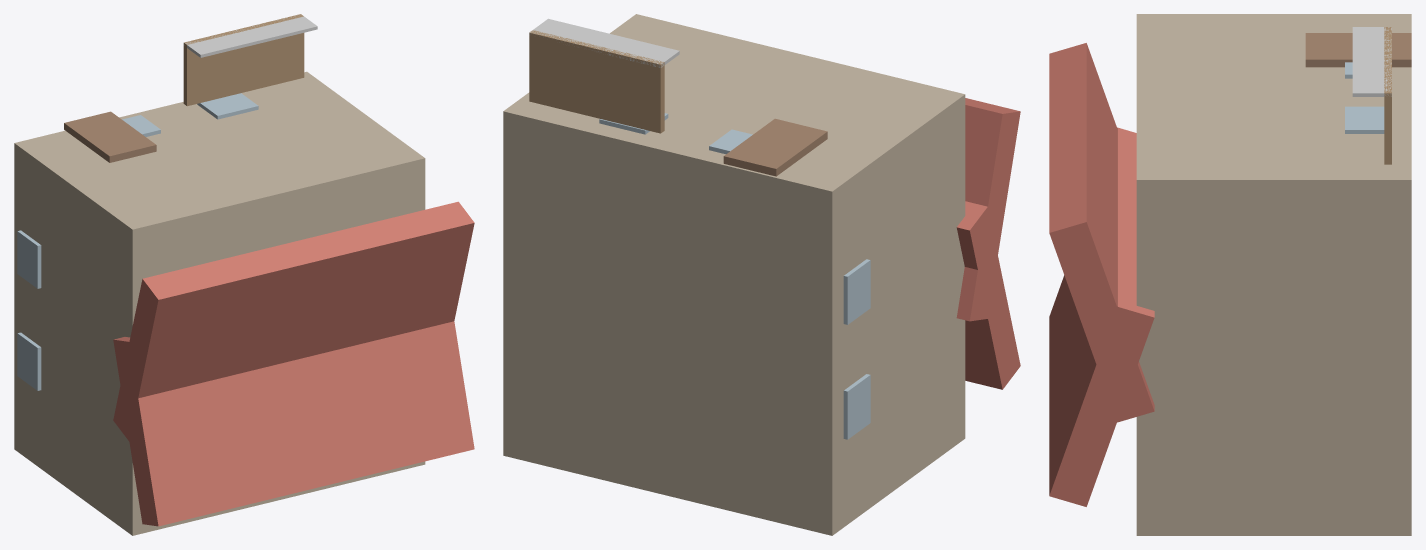
File: building-home.glb
3 renders of one model, left to right at view 1: azimuth 30°, elevation 25°; view 2: azimuth 150°, elevation 25°; view 3: azimuth 270°, elevation 25°, orthographic. The views are drawn at different scales.
Parts seen in each view (by area): view 1: world; view 2: world; view 3: world.
Part boxes in pixels (bbox=[...]): world: bbox=[14, 14, 474, 535]; world: bbox=[503, 14, 1020, 535]; world: bbox=[1049, 14, 1411, 535].
Size of the model in its own units: 10.8 by 12.2 by 9.23.
